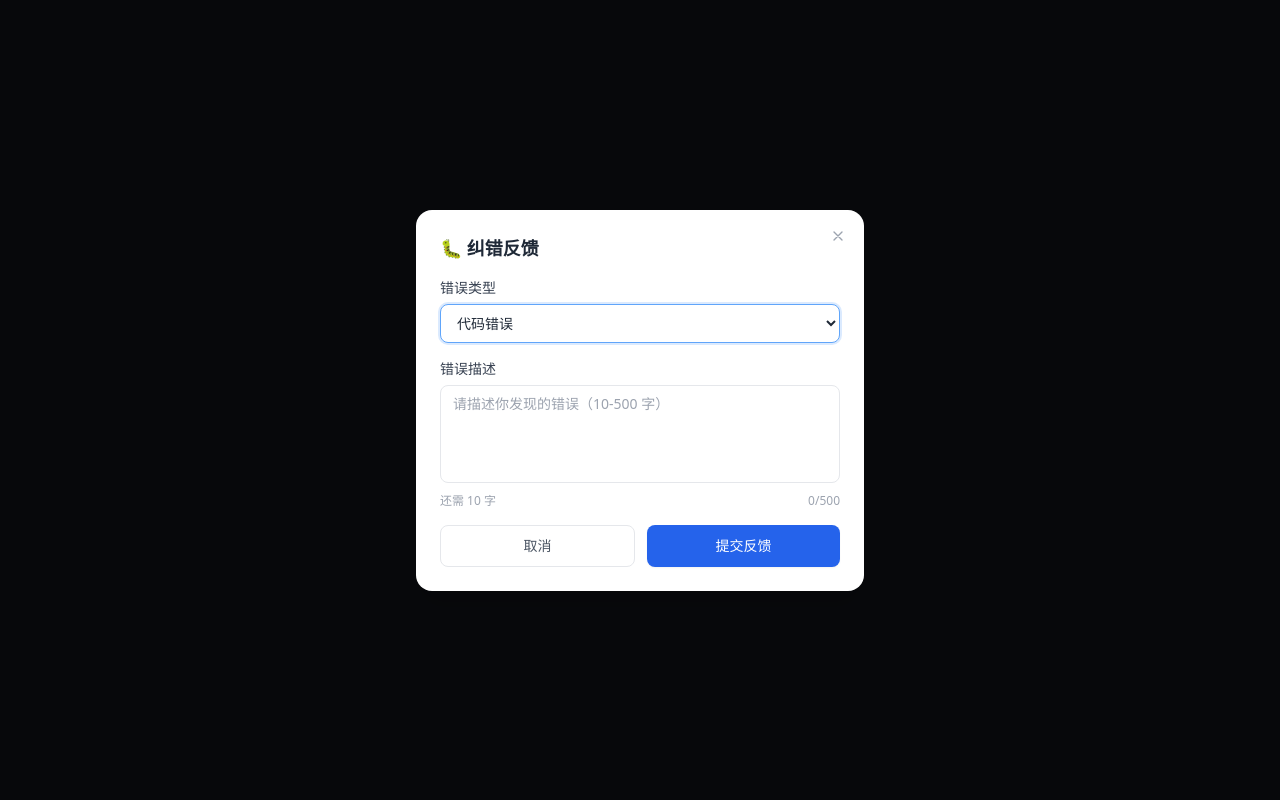
FeedbackModal › 描述为空时提交显示校验错误
Click the button "提交反馈": (744, 546) [647,524,840,566]
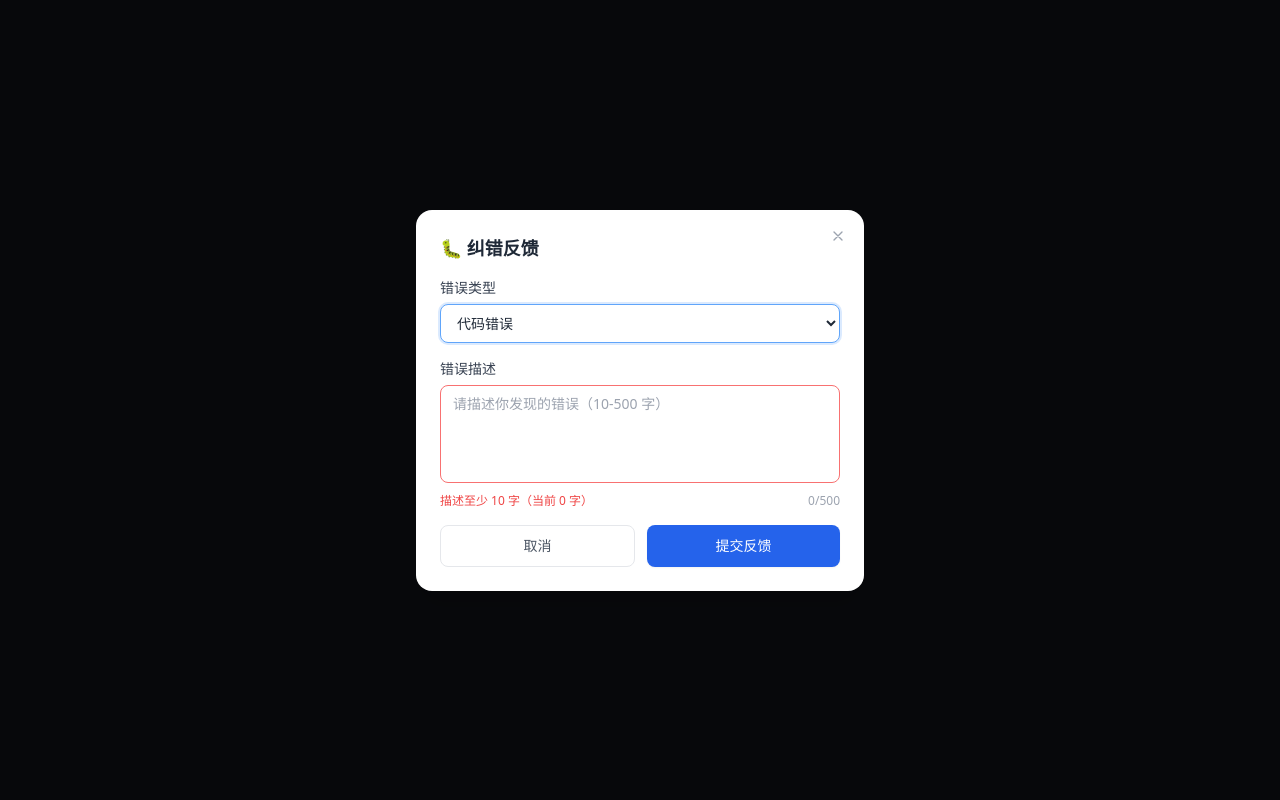
Expected: the text "描述至少 10 字（当前 0 字）" is shown, [440,492,593,508]
